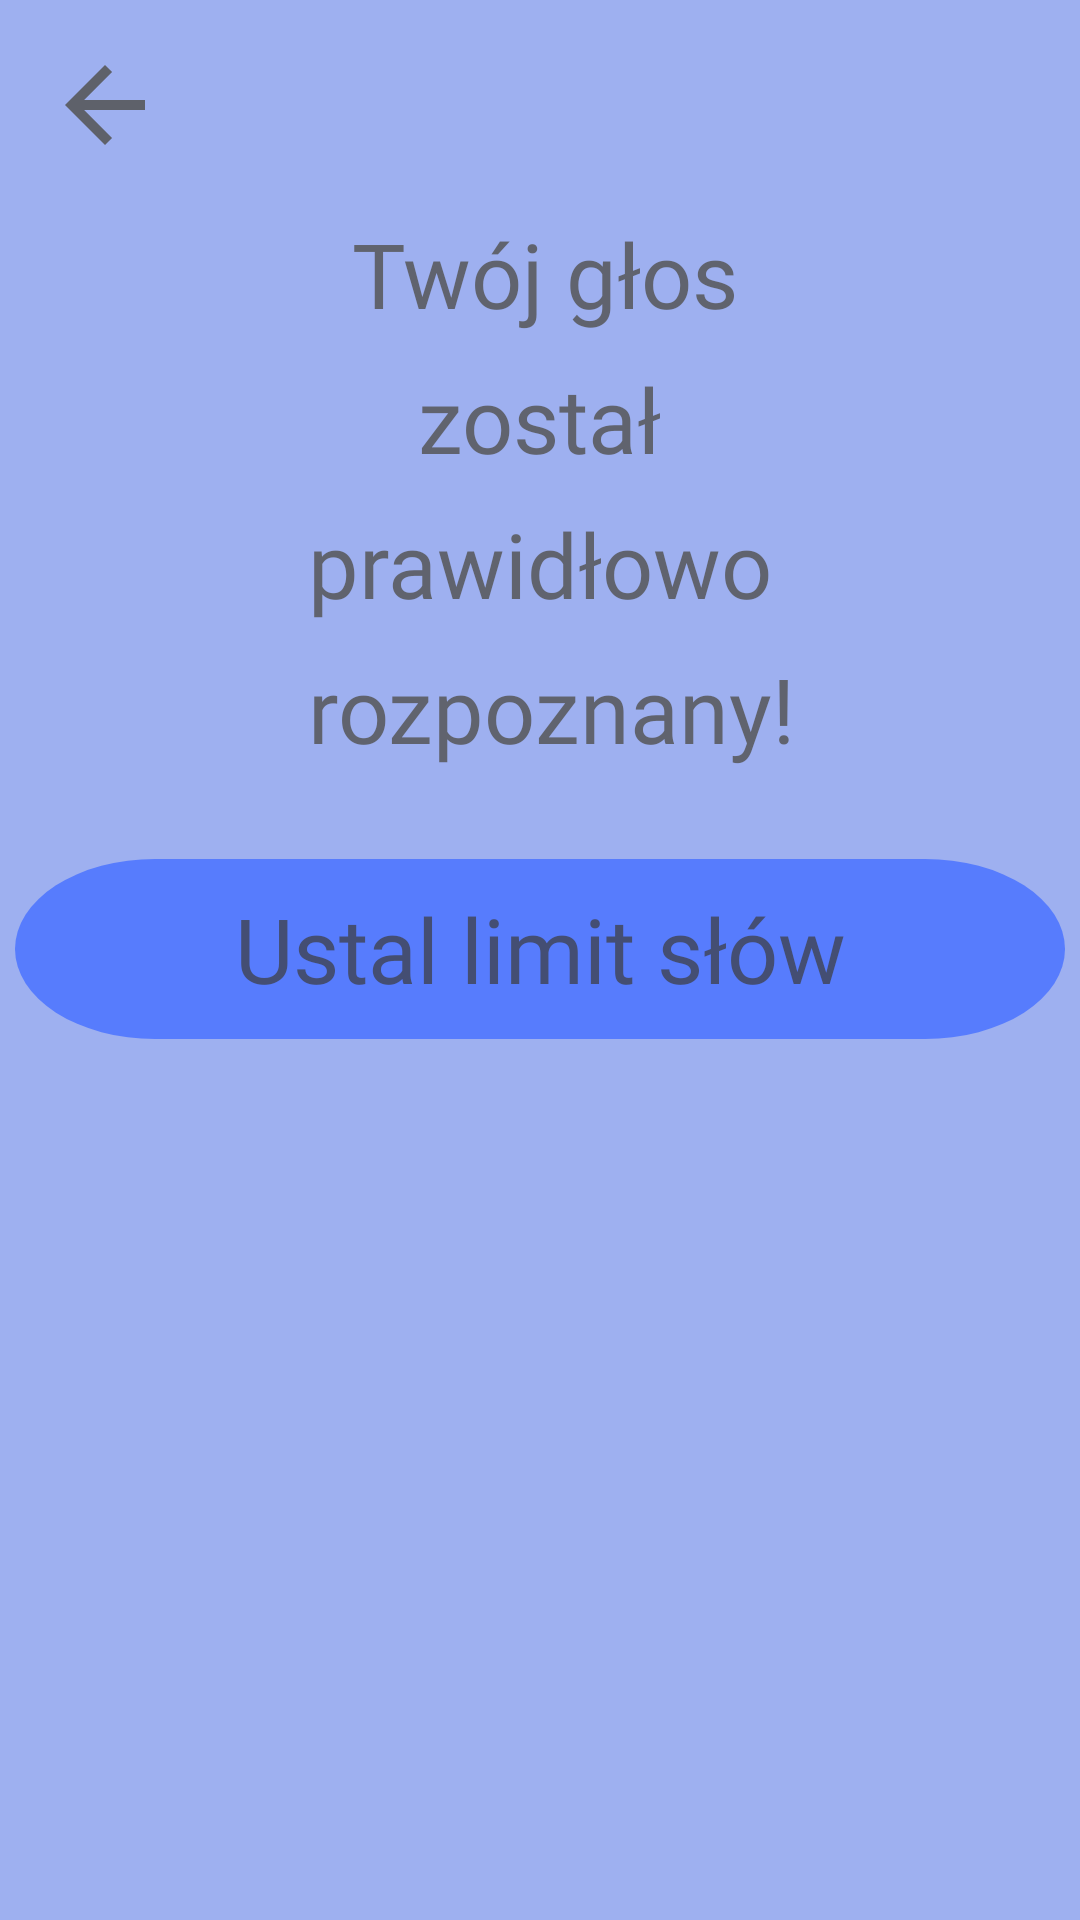

Icon bounding boxes for this 1080×1920 phone screenshot, format (x1, y1, x2, y2):
arrow back: (65, 65, 145, 145)
